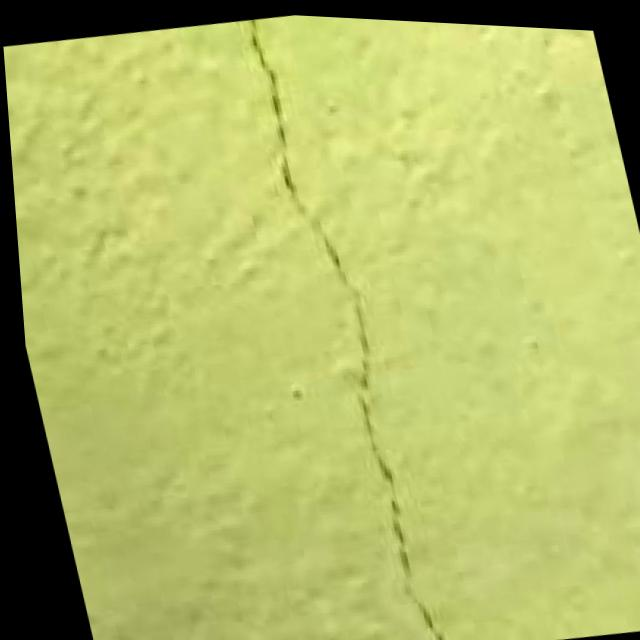Crack: (203, 8, 472, 640)
